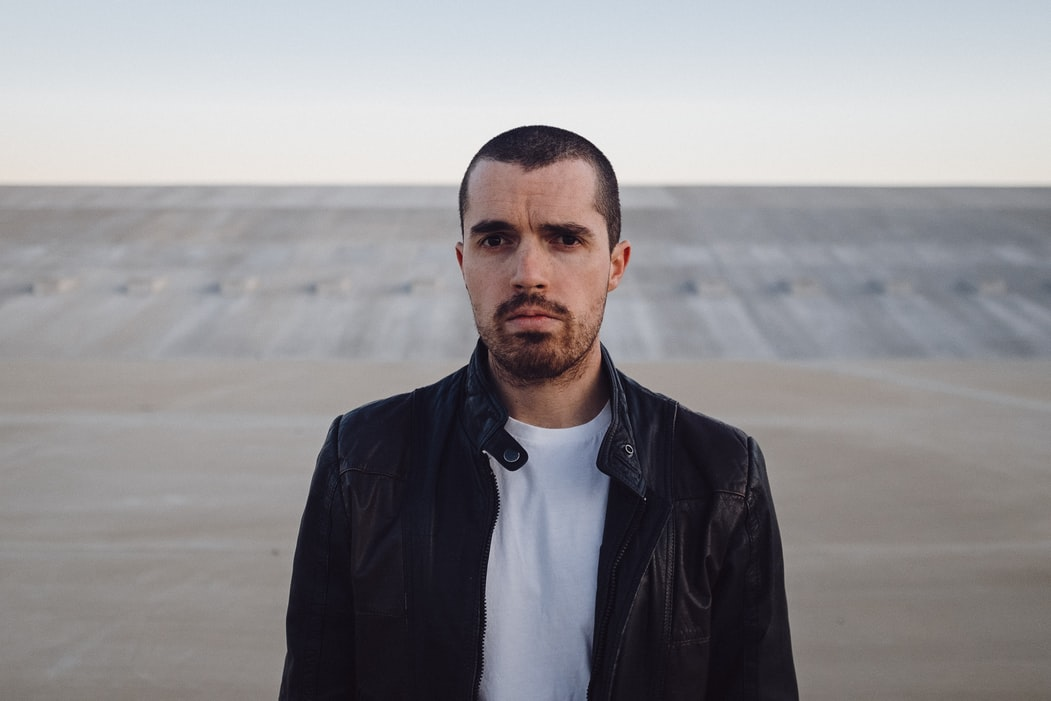beard: (472, 288, 606, 384)
